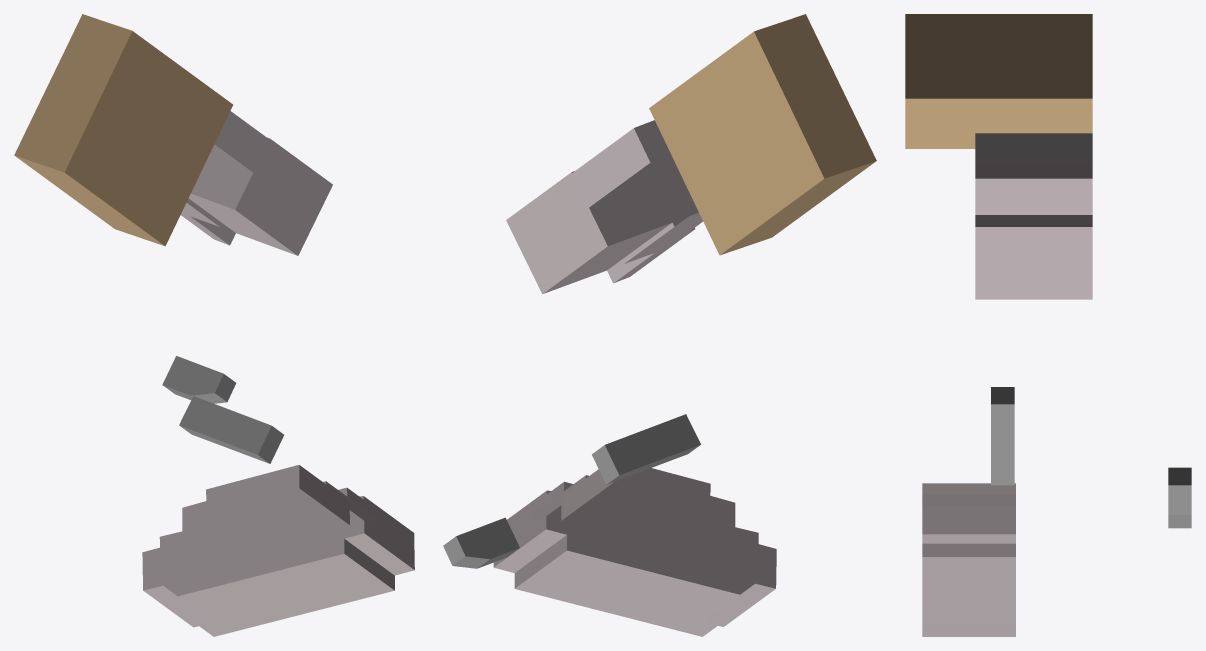
3 renders of one model, left to right at view 1: azimuth 30°, elevation 25°; view 2: azimuth 150°, elevation 25°; view 3: azimuth 270°, elevation 25°, orthographic. The views are drawn at different scales.
Parts seen in each view (by area): view 1: 0_3_0_2_2_1_2_3; view 2: 0_3_0_2_2_1_2_3; view 3: 0_3_0_2_2_1_2_3.
Boxes of the visible parts, <box> form: 0_3_0_2_2_1_2_3: <box>14,14,414,636</box>; 0_3_0_2_2_1_2_3: <box>443,14,876,636</box>; 0_3_0_2_2_1_2_3: <box>905,14,1191,636</box>.
Bounding box in the file's own units: 42.42 × 74.17 × 36.7.
